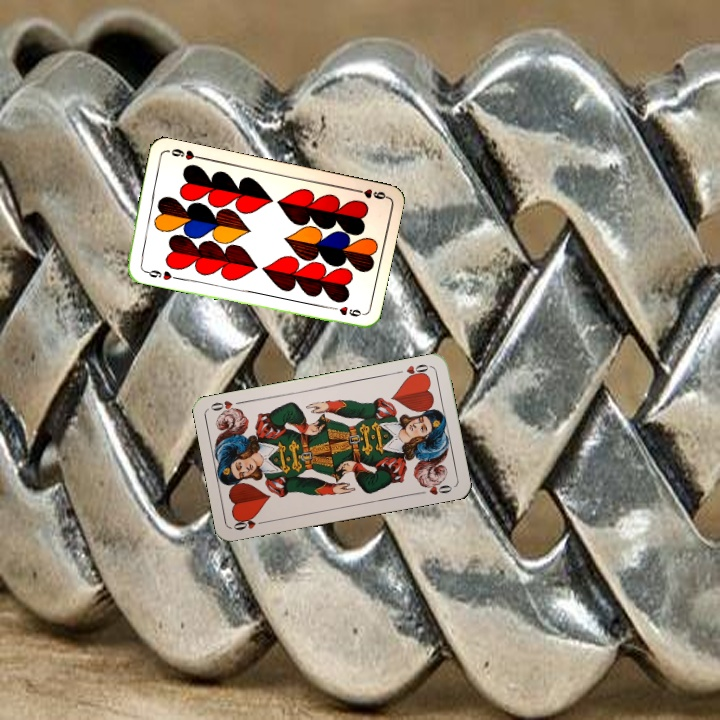H9: (139, 265, 179, 283), (349, 185, 389, 202)
HO: (392, 360, 432, 381), (229, 513, 270, 533)
